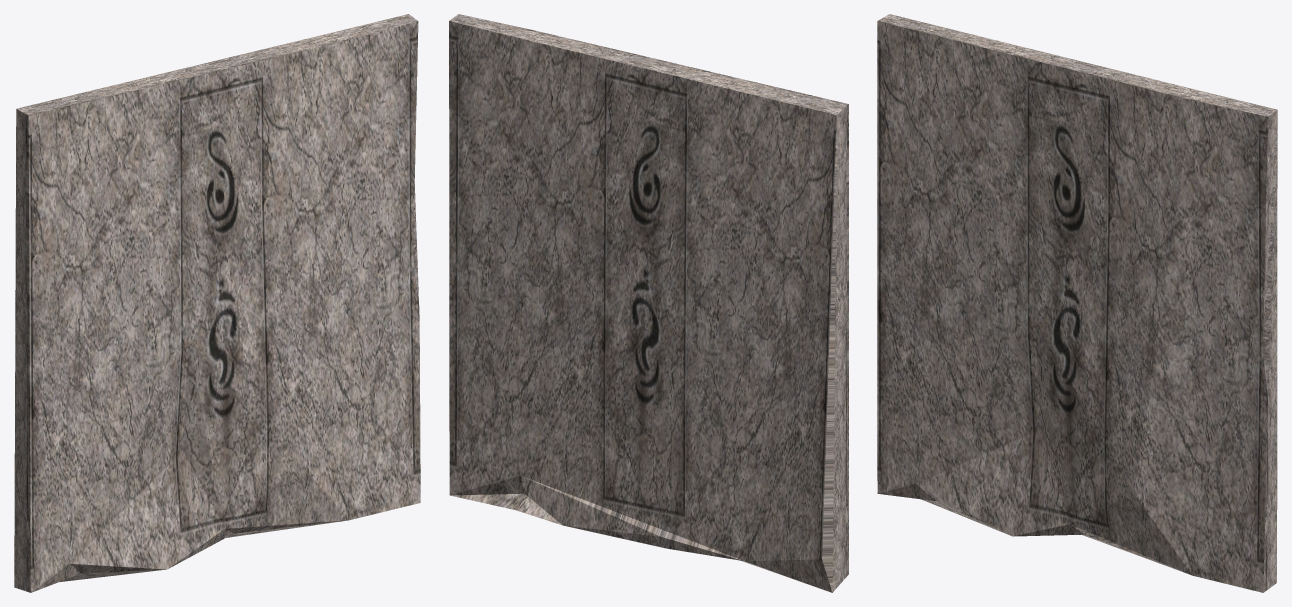
File: door_singing_mtn_s01.fbx
3 renders of one model, left to right at view 1: azimuth 30°, elevation 25°; view 2: azimuth 150°, elevation 25°; view 3: azimuth 330°, elevation 25°, orthographic.
Visible parts, largest first — view 1: mesh_node; view 2: mesh_node; view 3: mesh_node.
Boxes of the visible parts, left/top/right/bottom form: mesh_node: left=14, top=14, right=420, bottom=592; mesh_node: left=449, top=14, right=848, bottom=592; mesh_node: left=877, top=14, right=1277, bottom=592.
Size of the model in its own units: 3.4 by 4.02 by 0.379.
1 material, 1 textured.
